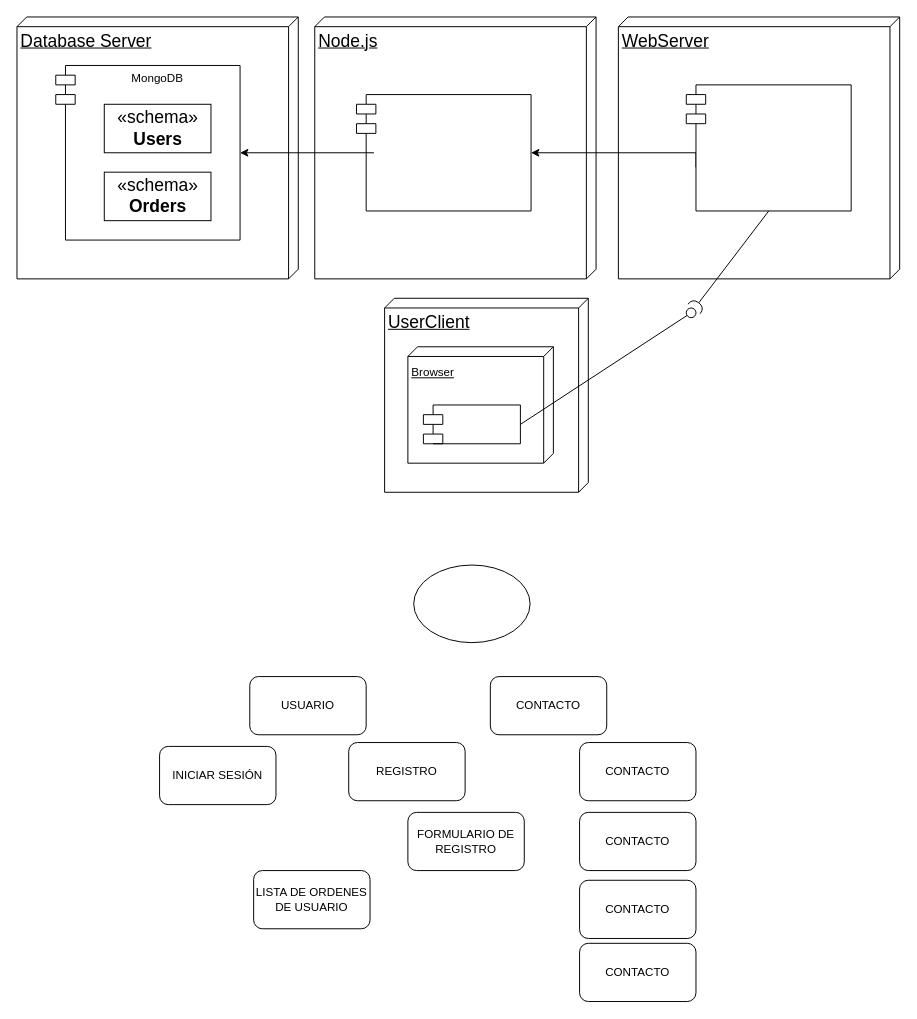
The diagram is 917 pixels wide and 1019 high, and some of its shapes have lost their labels. Here are the shapes that lost their labels. From the top down, the centre of each, then its label:
At (x=443, y=152): "Express".
At (x=768, y=147): "React".
At (x=471, y=424): "HTML5".
At (x=471, y=603): "HOME".
